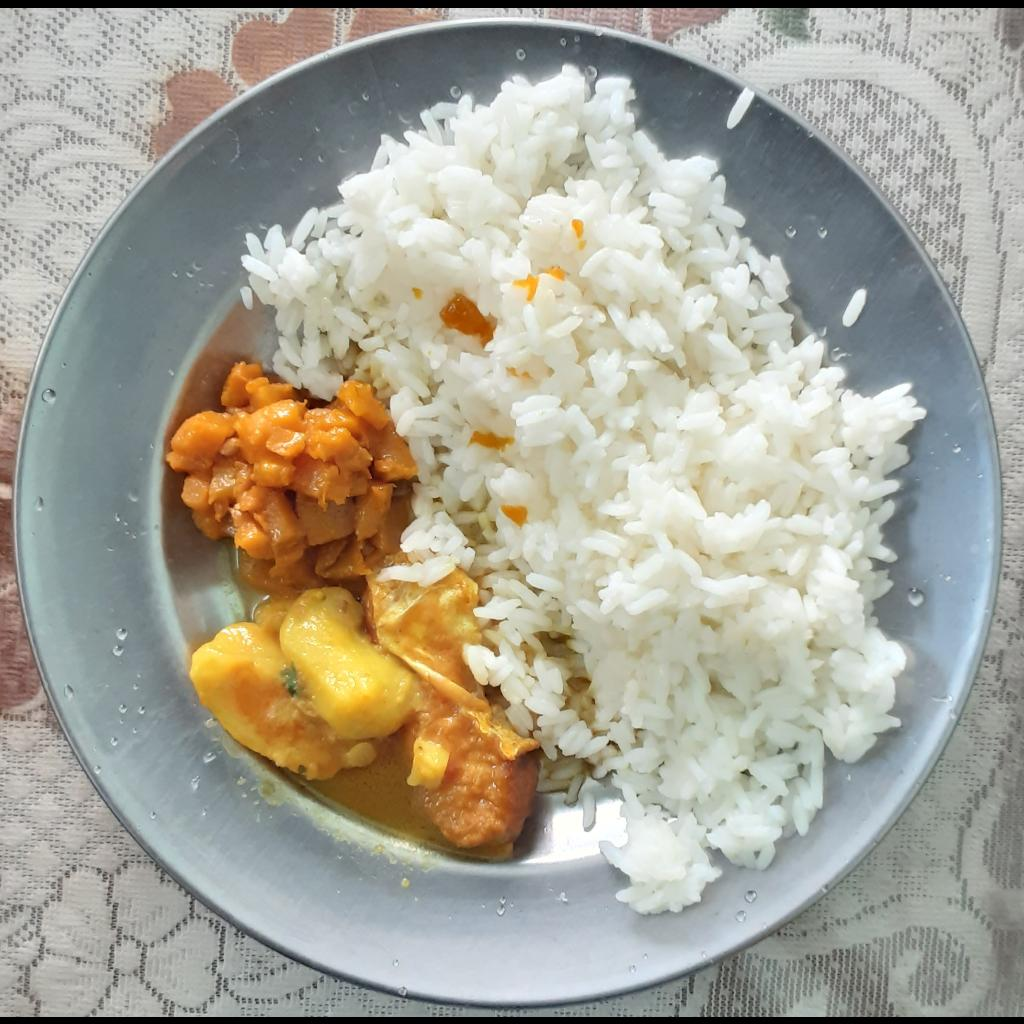fish: (360, 573, 536, 851)
kumra-vaji: (165, 357, 414, 588)
potato: (184, 585, 408, 782)
rice: (235, 62, 925, 913)
